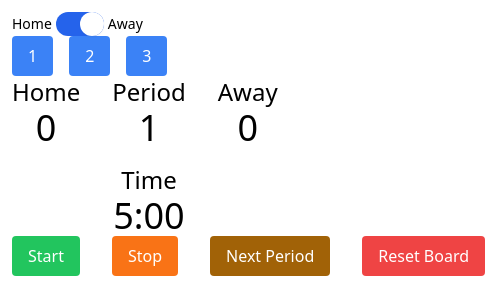
Test: tests using the setup function › updates the Away score
This screenshot has width=502, height=293.
Click the button "1". click: (33, 56)
box: [12,36,53,76]
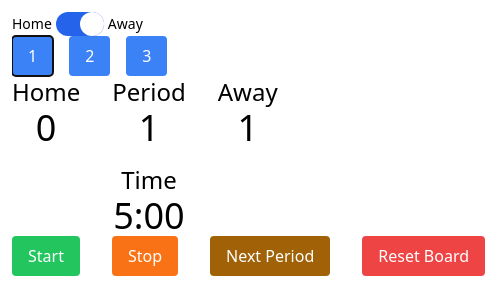
Result: the text with test id "away-score" reads "1" at [237,103,258,152]
